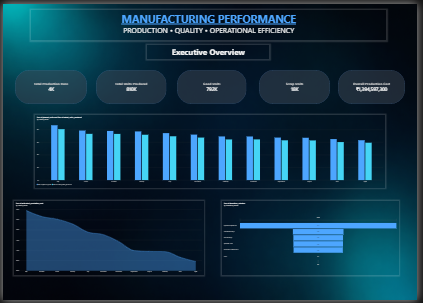

Layout of this report page (visuals, bound fields, positions):
{"tool":"powerbi","page":{"name":"business analysis","canvas":[4140,2960],"ordinal":0},"visuals":[{"type":"cardVisual","fields":{"Data":["manufacturing_oee_db fact_production_runs.Total Production Runs"]},"box":[110,645,740,360],"z":0},{"type":"cardVisual","fields":{"Data":["manufacturing_oee_db fact_production_runs.Total Units Produced"]},"box":[915,645,725,360],"z":1000},{"type":"cardVisual","fields":{"Data":["manufacturing_oee_db fact_production_runs.Good Units"]},"box":[1725,645,715,360],"z":2000},{"type":"cardVisual","fields":{"Data":["manufacturing_oee_db fact_production_runs.Scrap Units"]},"box":[2545,645,730,360],"z":3000},{"type":"cardVisual","fields":{"Data":["manufacturing_oee_db fact_production_runs.Overall Production Cost"]},"box":[3340,645,690,360],"z":4000},{"type":"clusteredColumnChart","fields":{"Category":["manufacturing_oee_db dim_date.month_name"],"Y":["Sum(manufacturing_oee_db fact_production_runs.planned_units)","Sum(manufacturing_oee_db fact_production_runs.actual_units_produced)"]},"box":[320,1110,3500,725],"z":5000},{"type":"areaChart","fields":{"Category":["manufacturing_oee_db dim_date.month_name"],"Y":["Sum(manufacturing_oee_db fact_production_runs.estimated_production_cost)"]},"box":[110,1965,1895,740],"z":6000},{"type":"funnel","fields":{"Category":["manufacturing_oee_db fact_production_runs.downtime_reason"],"Y":["Sum(manufacturing_oee_db fact_production_runs.downtime_minutes)"]},"box":[2190,1970,1765,740],"z":7000},{"type":"textbox","box":[275,55,3555,305],"z":7001},{"type":"textbox","box":[1435,410,1225,140],"z":7002}]}

Visuals, with their boxes in screenshot pixels (x1, y1, x2, y2), scaled from the page's 4140x2960 canvas onto the 423x303 screenshot:
cardVisual - manufacturing_oee_db fact_production_runs.Total Production Runs: [left=11, top=66, right=87, bottom=103]
cardVisual - manufacturing_oee_db fact_production_runs.Total Units Produced: [left=93, top=66, right=168, bottom=103]
cardVisual - manufacturing_oee_db fact_production_runs.Good Units: [left=176, top=66, right=249, bottom=103]
cardVisual - manufacturing_oee_db fact_production_runs.Scrap Units: [left=260, top=66, right=335, bottom=103]
cardVisual - manufacturing_oee_db fact_production_runs.Overall Production Cost: [left=341, top=66, right=412, bottom=103]
clusteredColumnChart - manufacturing_oee_db dim_date.month_name x Sum(manufacturing_oee_db fact_production_runs.planned_units): [left=33, top=114, right=390, bottom=188]
areaChart - manufacturing_oee_db dim_date.month_name x Sum(manufacturing_oee_db fact_production_runs.estimated_production_cost): [left=11, top=201, right=205, bottom=277]
funnel - manufacturing_oee_db fact_production_runs.downtime_reason x Sum(manufacturing_oee_db fact_production_runs.downtime_minutes): [left=224, top=202, right=404, bottom=277]
textbox: [left=28, top=6, right=391, bottom=37]
textbox: [left=147, top=42, right=272, bottom=56]
